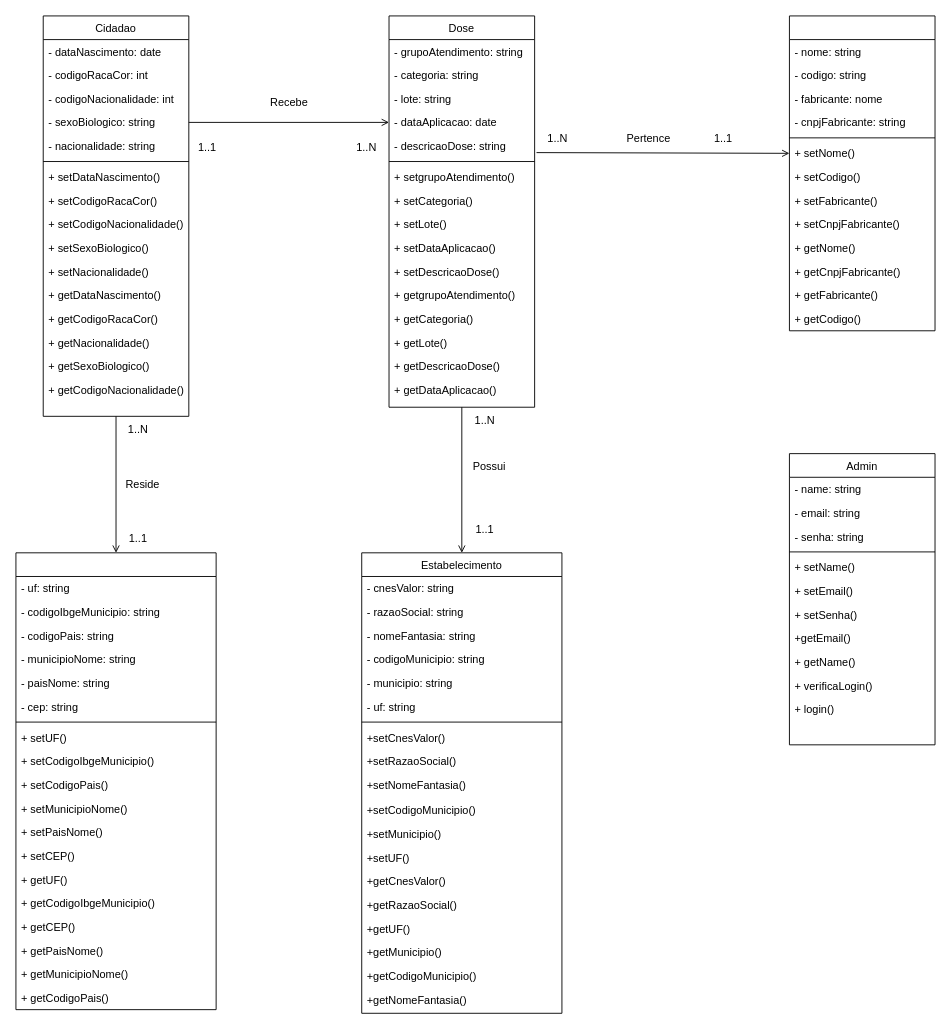
Image size: 951x1032. Some labels were removed from this diagram. Each missing label, with the box of its shape:
Endereco: (15, 552, 216, 1010)
Vacina: (789, 15, 935, 331)
